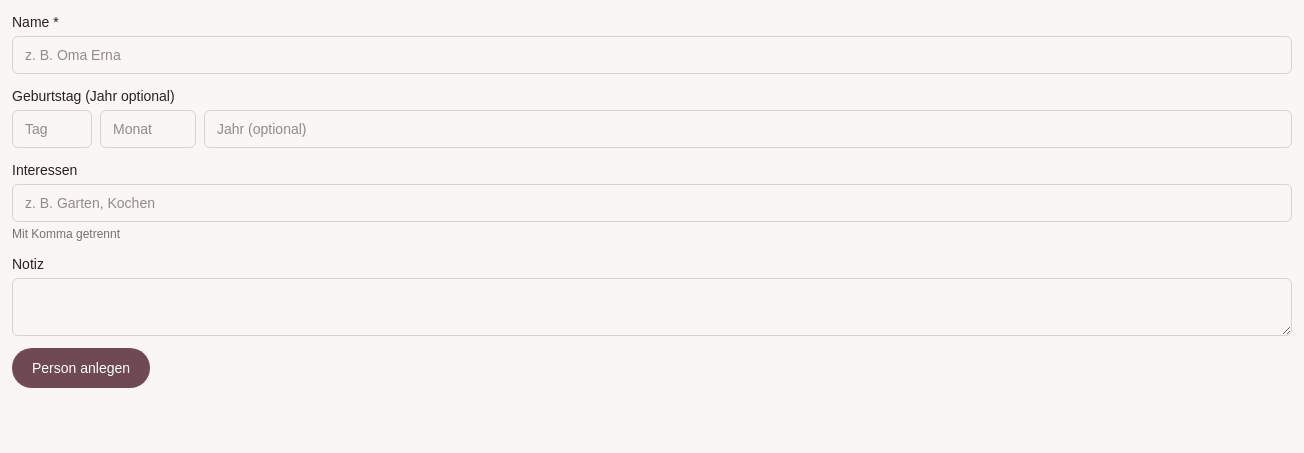
Scenario: PersonForm › zeigt eine Fehlermeldung aus dem Server-Action-State an
Type "Oma Erna" into the field labelled "Name *" at (652, 55), box x1=12 y1=36 x2=1292 y2=74
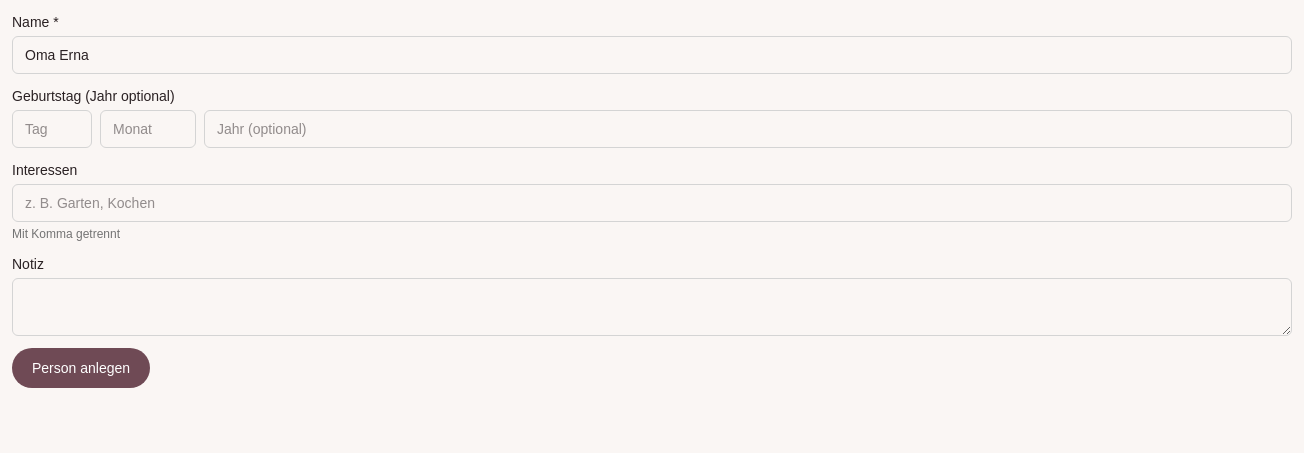
Click the button "Person anlegen" at (81, 368), box x1=12 y1=348 x2=150 y2=388
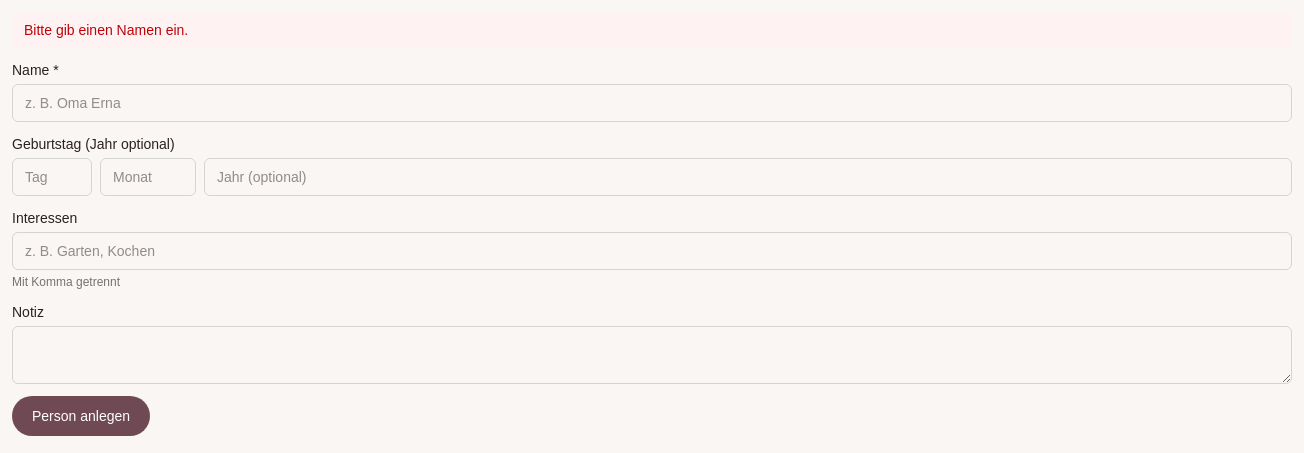
Expected: the text "Bitte gib einen Namen ein." is shown, x1=12 y1=12 x2=1292 y2=48
